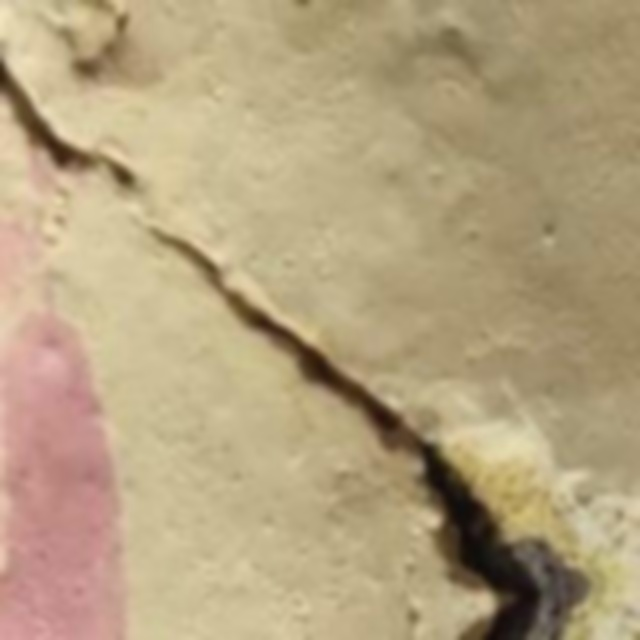SurfaceCrack: (154, 206, 576, 640), (0, 42, 170, 258)
